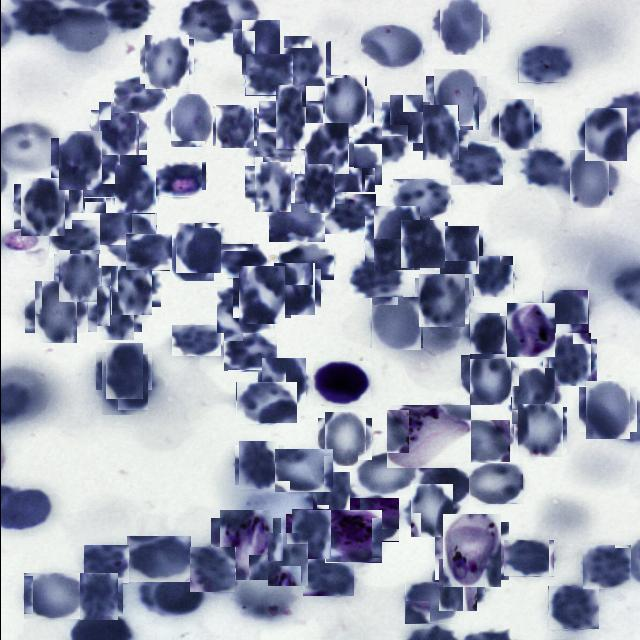difficult: (324, 510, 381, 563)
leukocyte: (312, 361, 370, 406)
red blood cell: (125, 536, 192, 583), (368, 210, 424, 266), (98, 213, 156, 267), (96, 356, 152, 411), (22, 573, 83, 620), (429, 72, 482, 126), (82, 154, 146, 198), (28, 286, 82, 338), (235, 268, 288, 320), (48, 8, 108, 53), (360, 25, 422, 68), (16, 181, 68, 232), (54, 134, 105, 186), (448, 420, 509, 463), (435, 1, 486, 52), (370, 297, 421, 348), (582, 384, 632, 436), (273, 449, 332, 493), (216, 287, 272, 333), (235, 382, 296, 424), (268, 197, 324, 242), (357, 452, 414, 496), (341, 498, 398, 542), (141, 36, 191, 86), (464, 351, 514, 401), (507, 371, 557, 421), (106, 260, 156, 310), (416, 276, 466, 326), (449, 141, 504, 185), (564, 155, 613, 204), (514, 406, 564, 454), (392, 179, 450, 220), (260, 359, 308, 408), (353, 125, 407, 168), (94, 106, 142, 154), (167, 97, 215, 145), (320, 415, 368, 463), (545, 336, 593, 384), (581, 111, 629, 159), (236, 24, 284, 72), (407, 487, 455, 535), (266, 92, 314, 140), (302, 124, 350, 172), (173, 224, 221, 272), (55, 252, 103, 299), (322, 78, 369, 126), (330, 141, 378, 188), (547, 586, 598, 630), (416, 465, 470, 506), (468, 463, 522, 504), (168, 233, 215, 280), (270, 266, 317, 313), (263, 536, 310, 583), (581, 545, 630, 590), (399, 221, 446, 267), (222, 332, 276, 372), (348, 258, 402, 298), (404, 582, 455, 624), (542, 290, 588, 336), (91, 290, 137, 336), (100, 348, 146, 394), (434, 562, 480, 608), (248, 162, 294, 208), (282, 39, 328, 84), (418, 110, 463, 156), (190, 547, 236, 592), (324, 194, 375, 234), (152, 575, 203, 615), (517, 46, 572, 83), (64, 164, 108, 210), (112, 166, 156, 212), (244, 54, 292, 96), (278, 244, 333, 280), (288, 512, 333, 556), (237, 442, 280, 488), (48, 220, 100, 258), (302, 558, 353, 596), (493, 103, 537, 147), (436, 228, 480, 272), (502, 540, 553, 577), (113, 77, 165, 113), (76, 576, 120, 618), (153, 162, 205, 197), (310, 474, 352, 516), (124, 234, 171, 271), (384, 99, 426, 140), (217, 244, 266, 279), (246, 133, 295, 168), (83, 545, 128, 583), (213, 106, 254, 147), (521, 149, 565, 187), (467, 316, 508, 356), (473, 256, 513, 296), (299, 169, 339, 209), (171, 325, 220, 356)
trophozoite: (385, 405, 470, 469), (438, 518, 504, 584), (214, 514, 276, 576), (506, 303, 554, 357)
